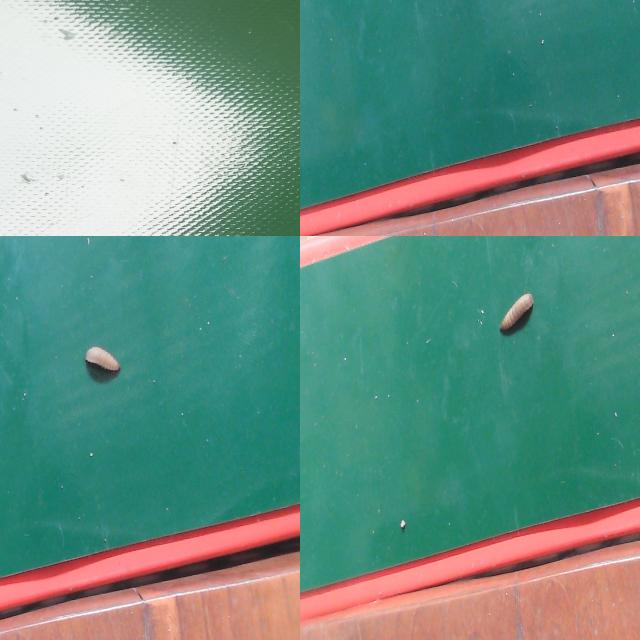Maggot: (499, 293, 535, 338), (84, 345, 122, 385)
